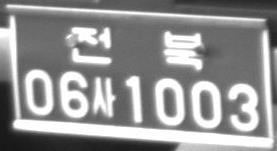0: (153, 76, 186, 127), (191, 79, 223, 129), (23, 67, 54, 116)
1: (121, 74, 146, 124)
3: (227, 81, 260, 133)
6: (58, 69, 89, 119)
사: (91, 76, 116, 118)
전북_D: (70, 26, 203, 71)
